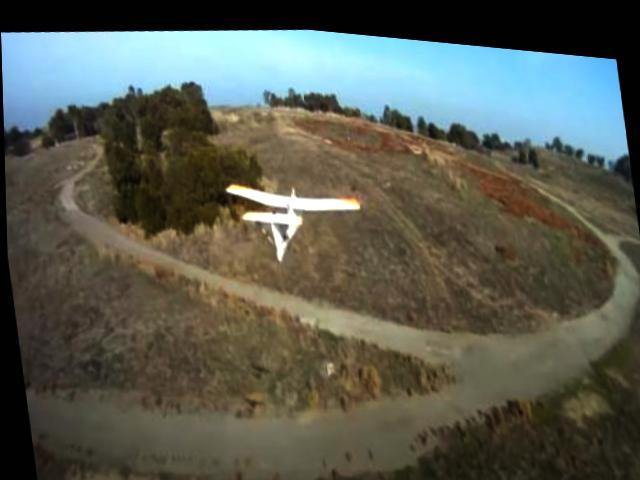uav: (217, 154, 375, 276)
